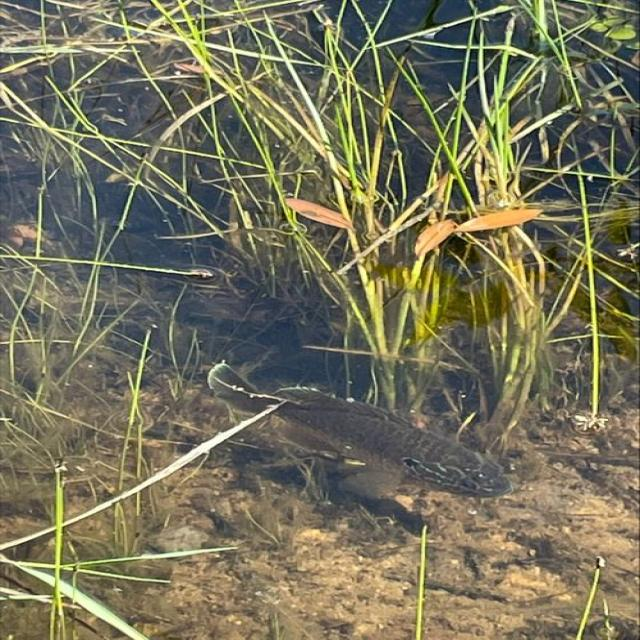Gunes Levregi: (204, 359, 518, 510)
